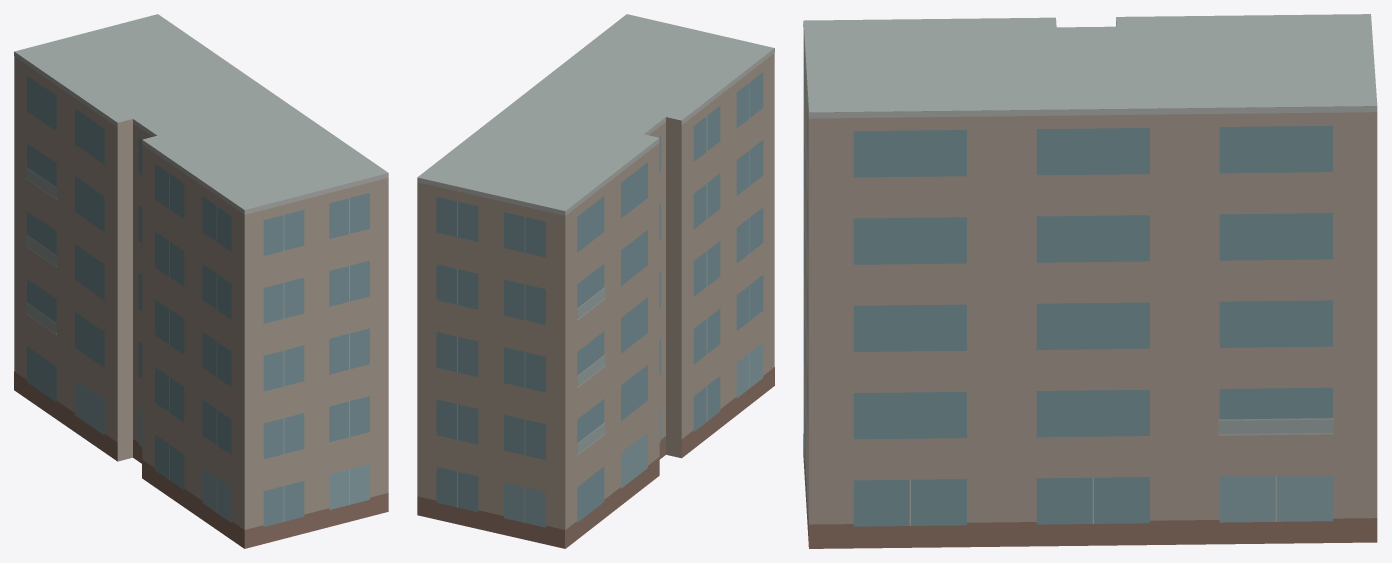
File: survey-upis-32840838.glb
3 renders of one model, left to right at view 1: azimuth 30°, elevation 25°; view 2: azimuth 150°, elevation 25°; view 3: azimuth 270°, elevation 25°, orthographic. The views are drawn at different scales.
Parts seen in each view (by area): view 1: survey-upis-32840838.tmp; view 2: survey-upis-32840838.tmp; view 3: survey-upis-32840838.tmp.
Boxes of the visible parts, bbox=[...] form: survey-upis-32840838.tmp: bbox=[14, 14, 388, 548]; survey-upis-32840838.tmp: bbox=[417, 14, 774, 548]; survey-upis-32840838.tmp: bbox=[803, 14, 1377, 548].
Bounding box in the file's own units: 8.43 × 17.4 × 20.74.
